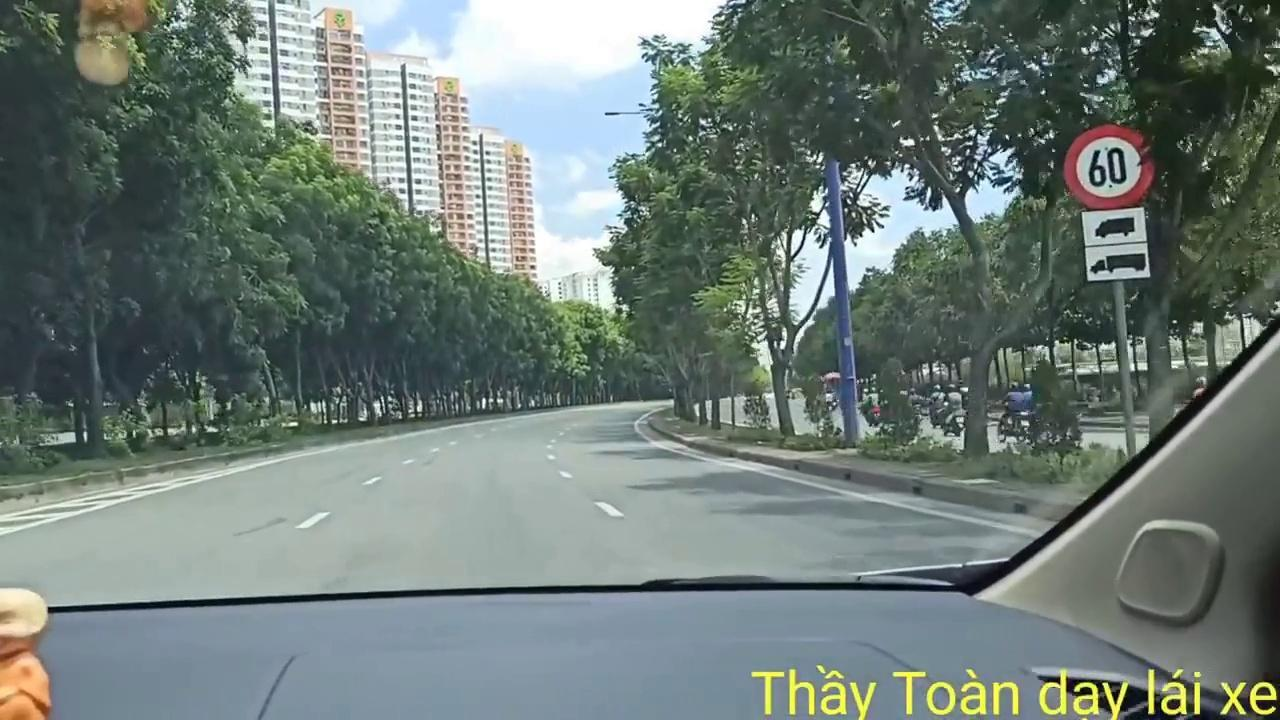Biển phụ: (1078, 209, 1151, 282)
GIơi hạn tốc độ 60Km/h: (1062, 120, 1158, 210)
